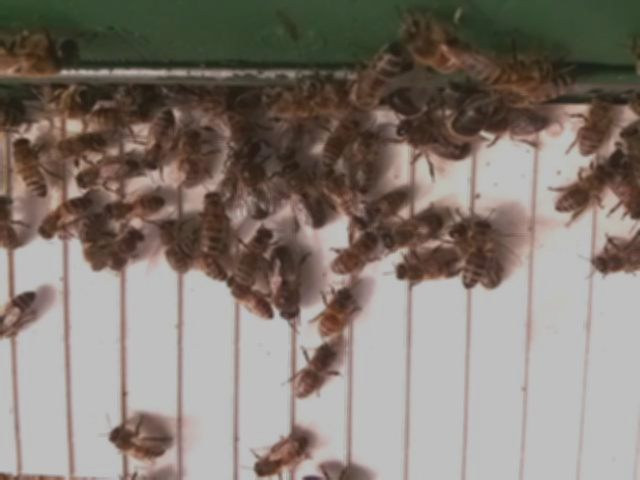Drone: (391, 115, 474, 167), (278, 158, 326, 232), (233, 145, 274, 225), (266, 243, 305, 324)
Worker: (380, 206, 448, 256), (548, 171, 609, 220), (250, 433, 312, 479), (292, 342, 337, 404), (351, 185, 410, 231), (37, 196, 93, 244), (459, 216, 494, 291), (138, 109, 178, 174), (104, 423, 168, 463), (393, 251, 462, 288), (10, 136, 49, 199), (315, 285, 358, 341), (72, 156, 137, 192), (574, 97, 610, 161), (99, 192, 166, 224), (329, 236, 378, 279), (198, 190, 228, 260), (174, 128, 206, 192), (158, 218, 190, 278)
